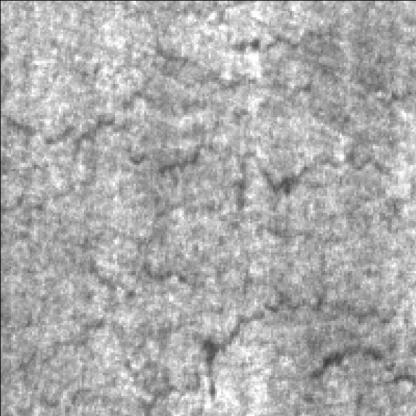crazing: (4, 92, 416, 248), (22, 256, 194, 416), (201, 295, 416, 405)
